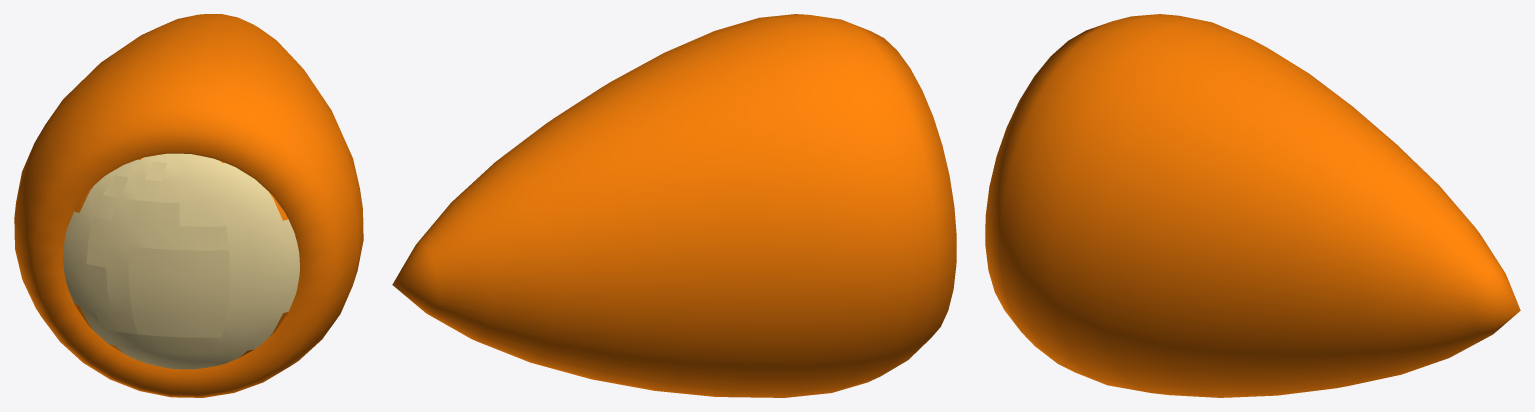
File: Teddy_armright.fbx
3 renders of one model, left to right at view 1: azimuth 30°, elevation 25°; view 2: azimuth 150°, elevation 25°; view 3: azimuth 270°, elevation 25°, orthographic. The views are drawn at different scales.
Visible parts, largest first — view 1: Sphere.008; view 2: Sphere.008; view 3: Sphere.008.
Boxes of the visible parts, <box> form: Sphere.008: <box>14,14,363,397</box>; Sphere.008: <box>392,14,956,397</box>; Sphere.008: <box>985,14,1520,397</box>.
Bounding box in the file's own units: 156 × 133 × 188.
